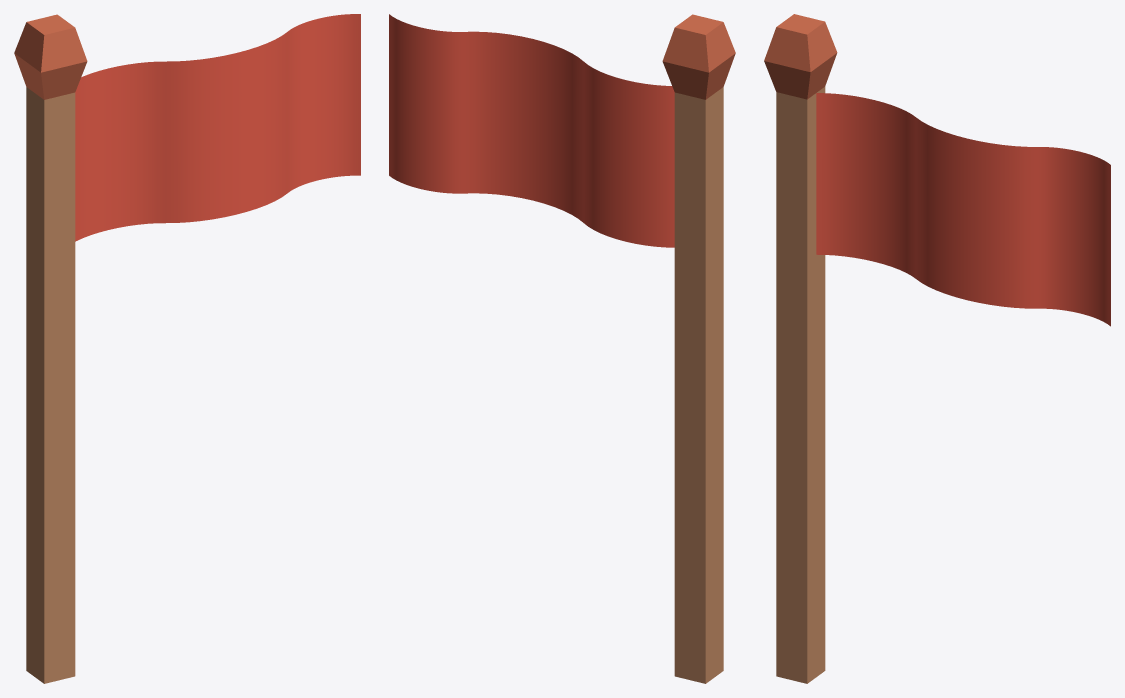
The model's file is RedFlag.fbx.
3 views of the same model, side by side, from view 1: azimuth 30°, elevation 25°; view 2: azimuth 150°, elevation 25°; view 3: azimuth 330°, elevation 25° (orthographic).
Visible parts, largest first — view 1: mergedBlocks; view 2: mergedBlocks; view 3: mergedBlocks.
Boxes of the visible parts, x1,y1,x2,y2 form: mergedBlocks: [14, 14, 360, 683]; mergedBlocks: [389, 14, 735, 683]; mergedBlocks: [764, 14, 1110, 683].
Bounding box in the file's own units: 5.38 × 10 × 0.75.
